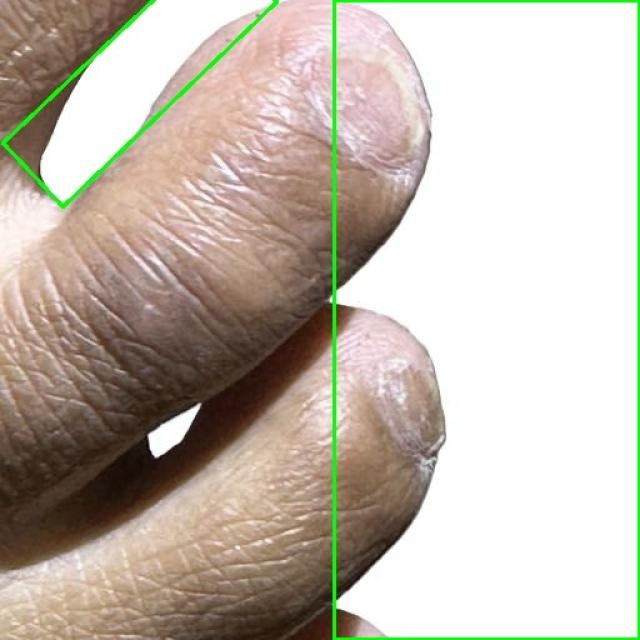Tinea Corporis: (334, 0, 639, 639), (3, 0, 278, 207)
